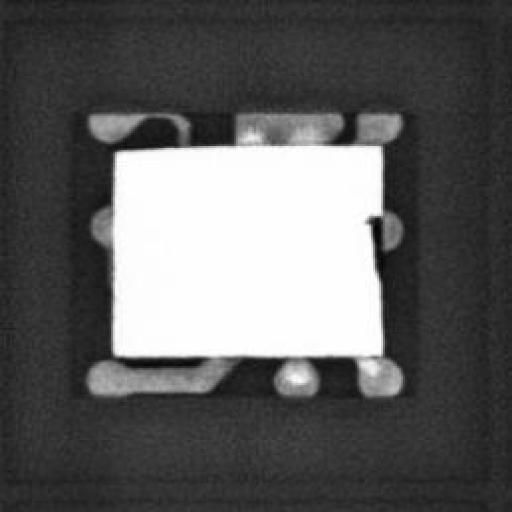DIE_BROKEN: (361, 210, 383, 280)
